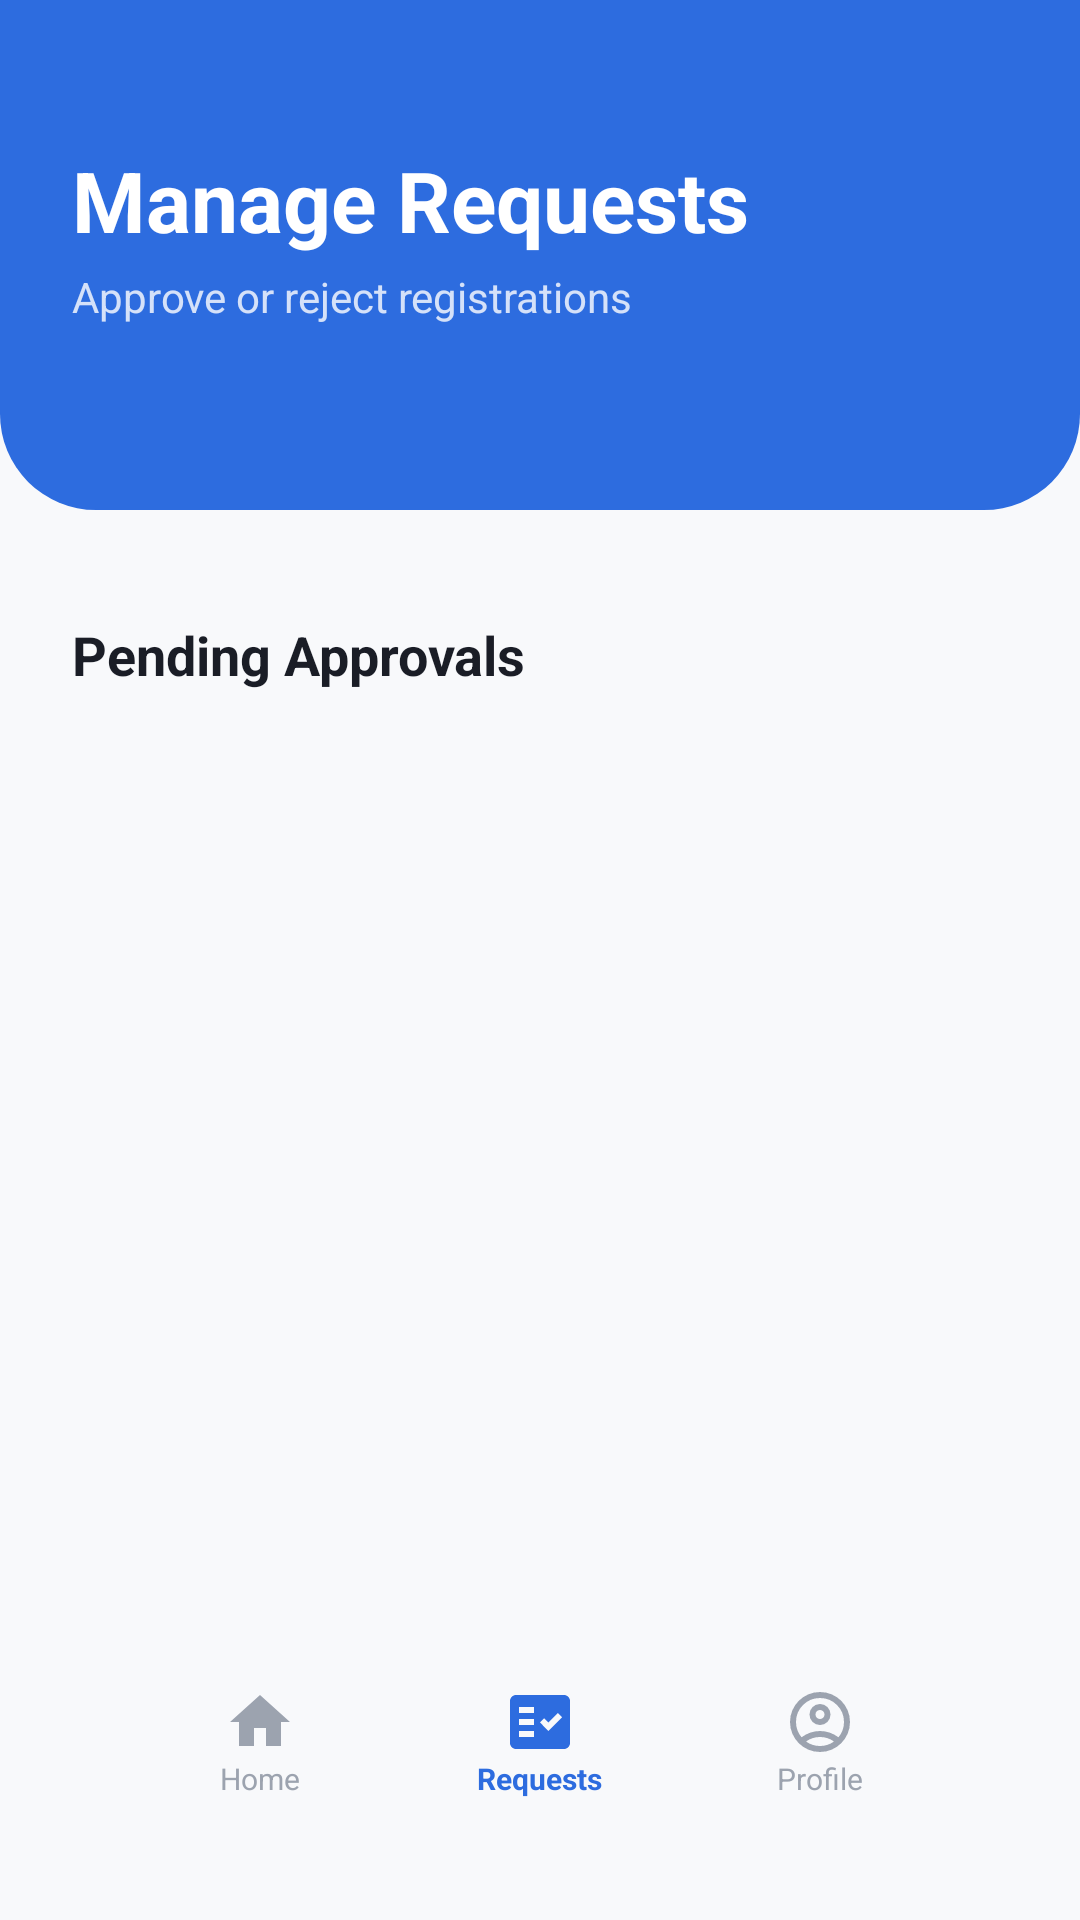

Named icons in this screenshot (1080w x 1920h) and their bounding boxes, (x1, y1, x2, y2):
fact check: (510, 1695, 570, 1749)
